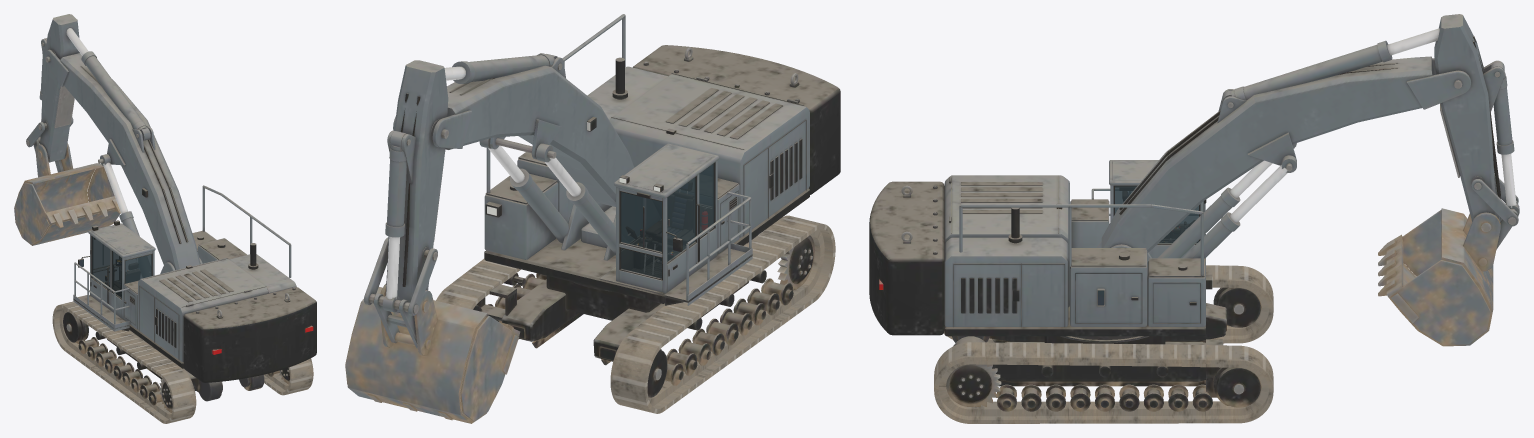
File: excavator-80t.glb
3 renders of one model, left to right at view 1: azimuth 30°, elevation 25°; view 2: azimuth 150°, elevation 25°; view 3: azimuth 270°, elevation 25°, orthographic. The views are drawn at different scales.
Parts seen in each view (by area): view 1: Counterweight, Boom, EngineCover, Bucket, Track_L, Upper, Stick, Cab, Glass, StickCyl_Barrel, Track_R, Undercarriage (+5 smaller); view 2: EngineCover, Upper, Bucket, Boom, Track_L, Counterweight, Stick, Cab, Undercarriage, Glass, BoomCyl_Barrel, Track_R (+18 smaller); view 3: Boom, EngineCover, Upper, Track_R, Bucket, Counterweight, Stick, Undercarriage, StickCyl_Barrel, Track_L, BoomCyl_Barrel, Sprocket_R (+9 smaller).
Part boxes in pixels (x1=…): Counterweight: x1=183, y1=287, x2=316, y2=382; Boom: x1=44, y1=49, x2=200, y2=270; EngineCover: x1=138, y1=243, x2=296, y2=361; Bucket: x1=14, y1=143, x2=120, y2=245; Track_L: x1=52, y1=301, x2=196, y2=423; Upper: x1=73, y1=185, x2=291, y2=368; Stick: x1=40, y1=14, x2=79, y2=162; Cab: x1=78, y1=220, x2=155, y2=319; Glass: x1=92, y1=236, x2=151, y2=298; StickCyl_Barrel: x1=81, y1=51, x2=150, y2=140; Track_R: x1=264, y1=358, x2=313, y2=395; Undercarriage: x1=107, y1=330, x2=264, y2=401; EngineCover: x1=587, y1=57, x2=809, y2=237; Upper: x1=476, y1=14, x2=809, y2=320; Bucket: x1=345, y1=283, x2=520, y2=423; Boom: x1=393, y1=53, x2=634, y2=206; Track_L: x1=610, y1=215, x2=835, y2=413; Counterweight: x1=633, y1=45, x2=840, y2=194; Stick: x1=385, y1=60, x2=448, y2=312; Cab: x1=613, y1=143, x2=719, y2=293; Undercarriage: x1=501, y1=236, x2=756, y2=365; Glass: x1=621, y1=163, x2=713, y2=278; BoomCyl_Barrel: x1=510, y1=168, x2=615, y2=255; Track_R: x1=436, y1=259, x2=520, y2=309; Boom: x1=1101, y1=56, x2=1471, y2=252; EngineCover: x1=944, y1=175, x2=1069, y2=327; Upper: x1=944, y1=188, x2=1223, y2=397; Track_R: x1=934, y1=342, x2=1273, y2=423; Bucket: x1=1378, y1=208, x2=1500, y2=346; Counterweight: x1=869, y1=181, x2=944, y2=335; Stick: x1=1434, y1=14, x2=1504, y2=221; Undercarriage: x1=952, y1=303, x2=1226, y2=386; StickCyl_Barrel: x1=1222, y1=40, x2=1392, y2=103; Track_L: x1=944, y1=265, x2=1273, y2=343; BoomCyl_Barrel: x1=1157, y1=187, x2=1240, y2=258; Sprocket_R: x1=946, y1=364, x2=1001, y2=406.
Size of the model in its own units: 4.2 by 7.27 by 11.87.
2 materials, 1 textured.
